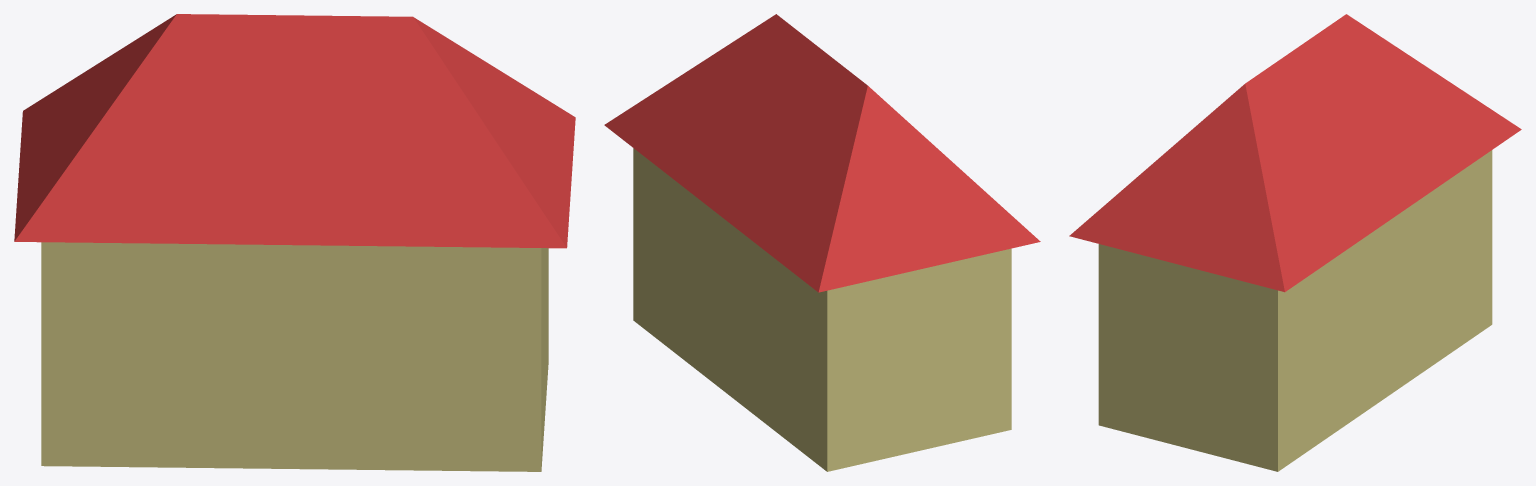
3 renders of one model, left to right at view 1: azimuth 30°, elevation 25°; view 2: azimuth 150°, elevation 25°; view 3: azimuth 270°, elevation 25°, orthographic. The views are drawn at different scales.
Parts seen in each view (by area): view 1: group_5, group_3, group_4; view 2: group_5, group_3; view 3: group_5, group_3, group_4.
Part boxes in pixels (<box>): group_5: <box>41,242,548,471</box>; group_3: <box>14,14,575,248</box>; group_4: <box>14,101,575,248</box>; group_5: <box>633,148,1011,471</box>; group_3: <box>604,14,1040,292</box>; group_5: <box>1098,150,1492,471</box>; group_3: <box>1069,14,1521,292</box>; group_4: <box>1084,210,1284,291</box>.
Size of the model in its own units: 24.02 by 21 by 16.7.
